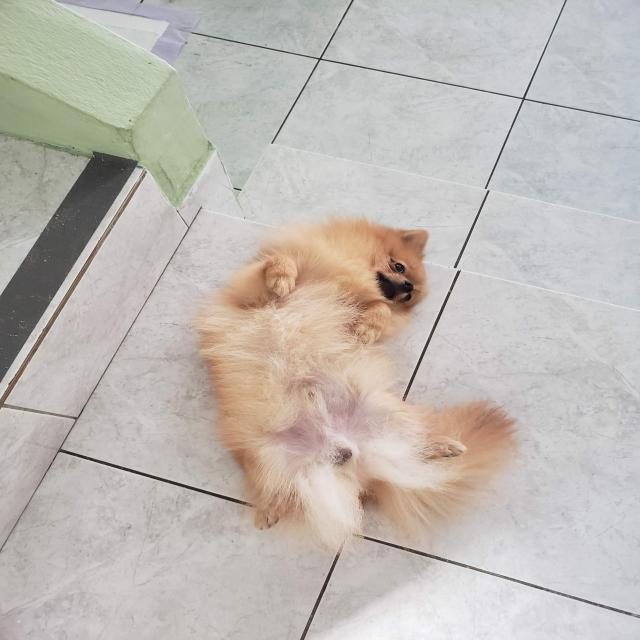laying down: (190, 216, 520, 556)
